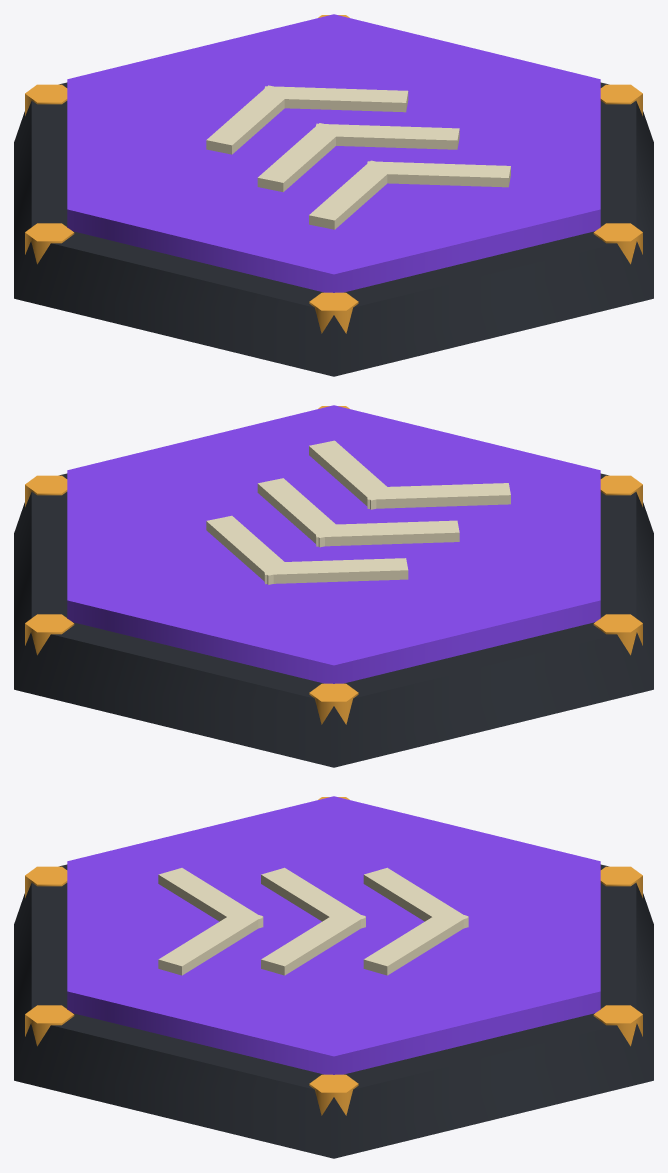
The model's file is launchpad.glb.
3 renders of one model, top to bottom at view 1: azimuth 30°, elevation 25°; view 2: azimuth 150°, elevation 25°; view 3: azimuth 270°, elevation 25°, orthographic.
Visible parts, largest first — view 1: LaunchPad; view 2: LaunchPad; view 3: LaunchPad.
Part boxes in pixels (x1,y1,x2,y2): LaunchPad: (14,14,653,376); LaunchPad: (14,405,653,767); LaunchPad: (14,796,653,1158).
Size of the model in its own units: 0.36 by 0.046 by 0.3118.
